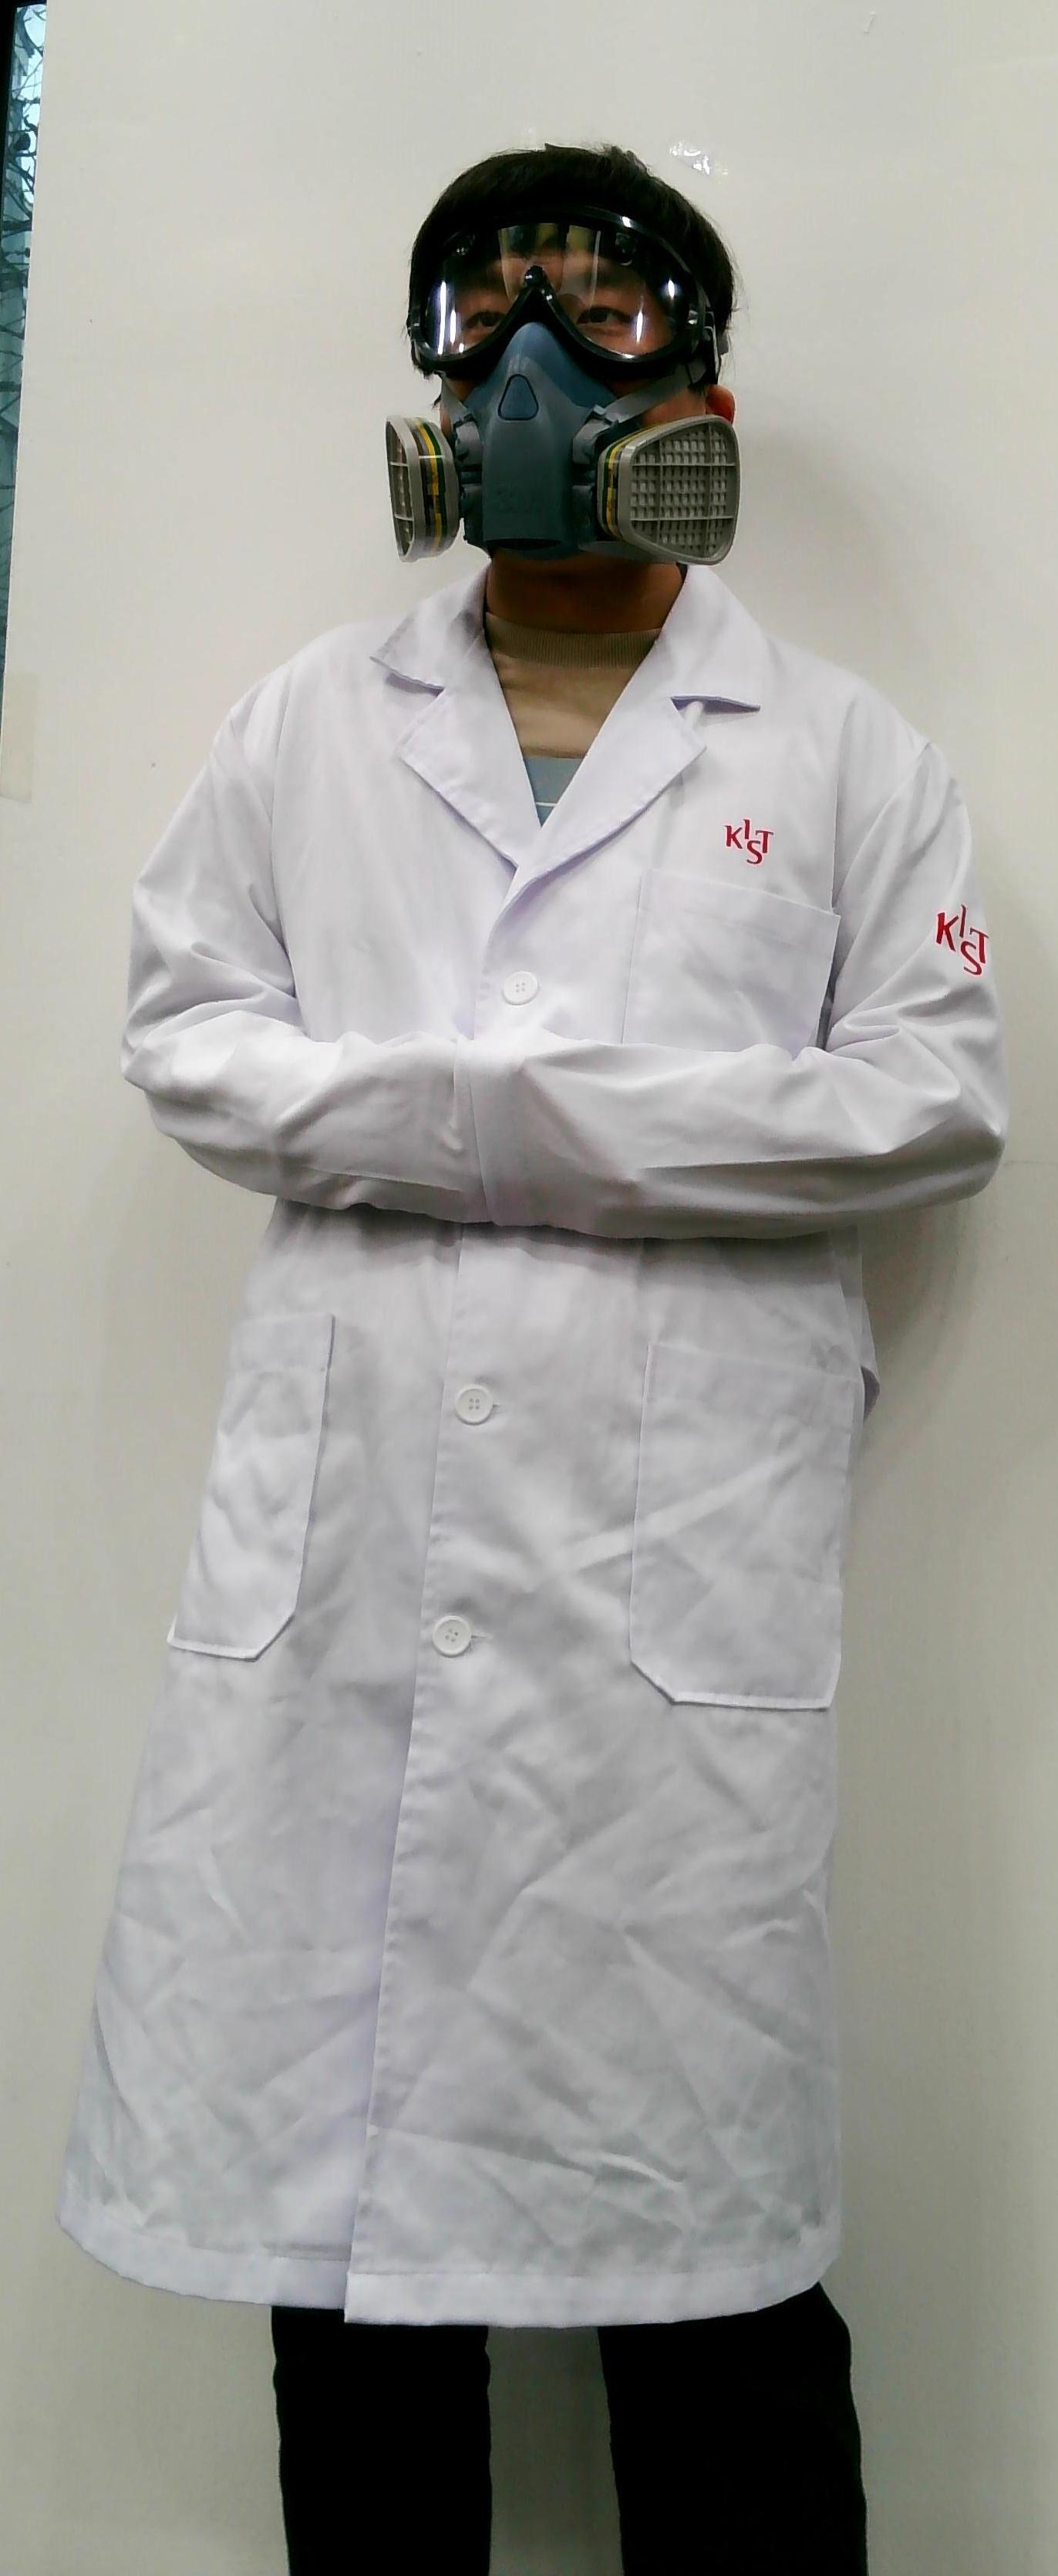lab_coat: (39, 672, 1017, 2277)
